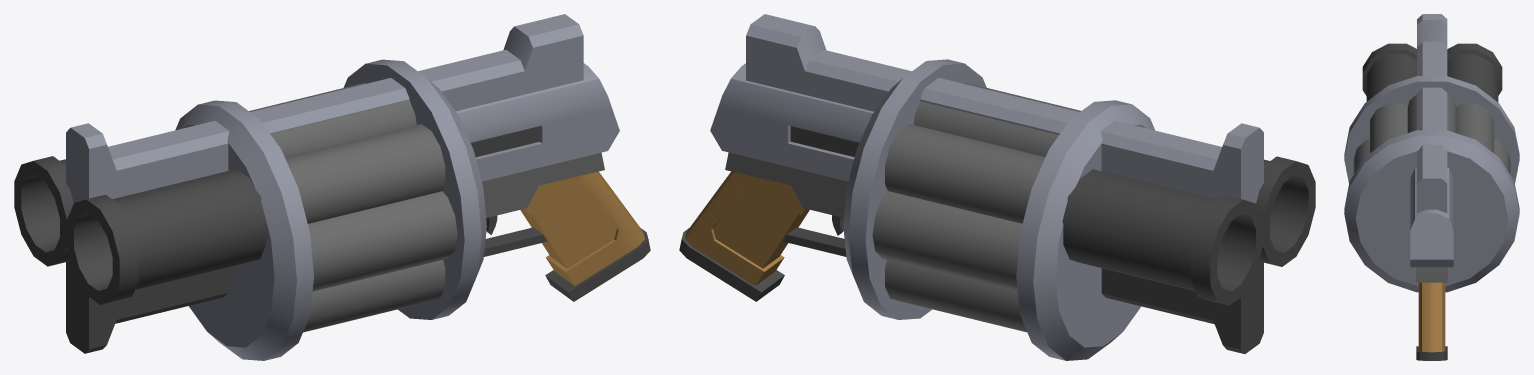
The model's file is gun-grenadelauncher.glb.
3 renders of one model, left to right at view 1: azimuth 30°, elevation 25°; view 2: azimuth 150°, elevation 25°; view 3: azimuth 270°, elevation 25°, orthographic. The views are drawn at different scales.
Visible parts, largest first — view 1: GrenadeLauncher; view 2: GrenadeLauncher; view 3: GrenadeLauncher.
Part boxes in pixels (left/top/right/bottom): GrenadeLauncher: left=14, top=14, right=650, bottom=360; GrenadeLauncher: left=679, top=14, right=1315, bottom=360; GrenadeLauncher: left=1344, top=14, right=1519, bottom=360.
Size of the model in its own units: 1.2 by 0.5549 by 0.4779.
